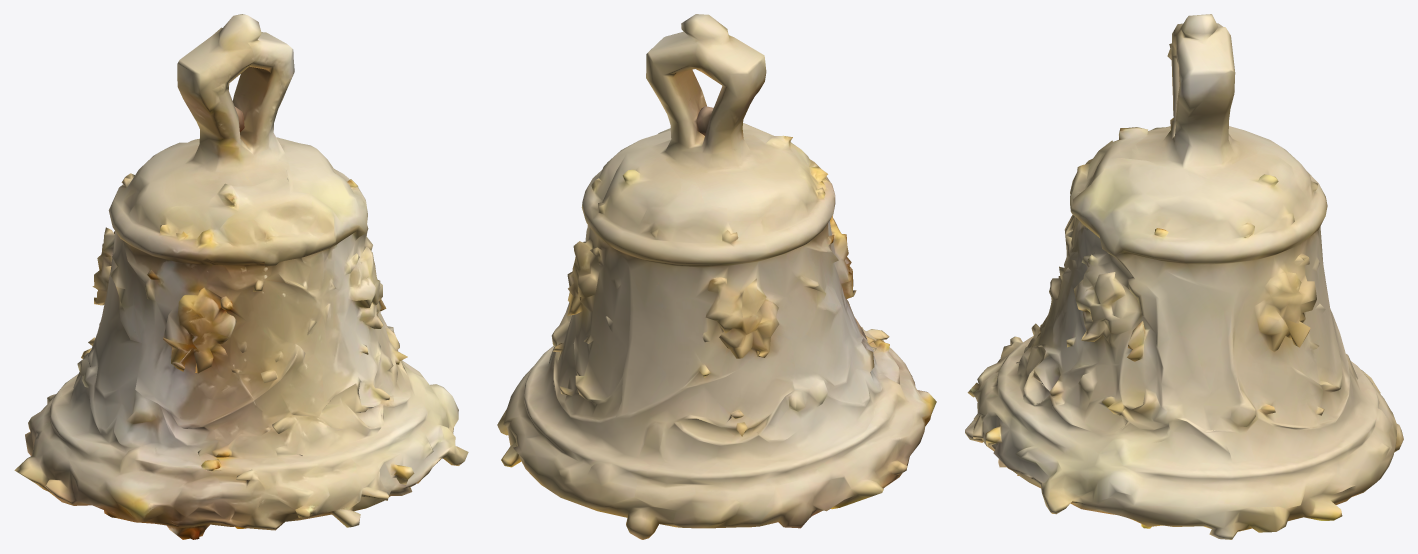
File: foe_bell.glb
3 views of the same model, side by side, from view 1: azimuth 30°, elevation 25°; view 2: azimuth 150°, elevation 25°; view 3: azimuth 270°, elevation 25° (orthographic).
Parts seen in each view (by area): view 1: tripo_node_de152789-ee4d-4a97-a679-674bbfd1abfe; view 2: tripo_node_de152789-ee4d-4a97-a679-674bbfd1abfe; view 3: tripo_node_de152789-ee4d-4a97-a679-674bbfd1abfe.
Boxes of the visible parts, x1=… form: tripo_node_de152789-ee4d-4a97-a679-674bbfd1abfe: x1=14, y1=14, x2=468, y2=539; tripo_node_de152789-ee4d-4a97-a679-674bbfd1abfe: x1=497, y1=14, x2=936, y2=539; tripo_node_de152789-ee4d-4a97-a679-674bbfd1abfe: x1=965, y1=14, x2=1403, y2=539.
Size of the model in its own units: 0.7835 by 0.9819 by 0.7703.
1 material, 1 textured.
